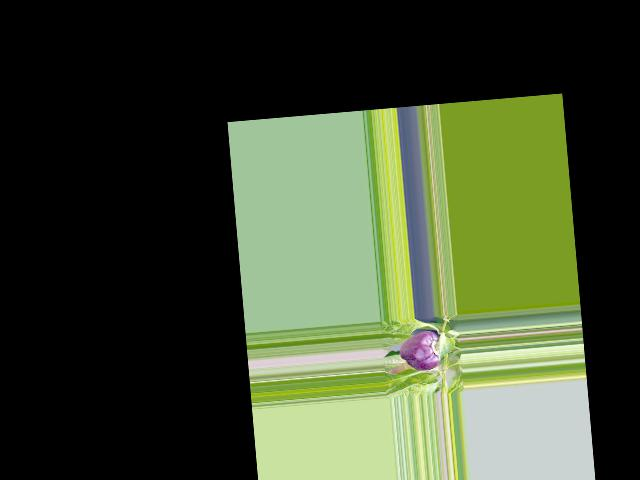bell_pepper: (396, 329, 446, 373)
